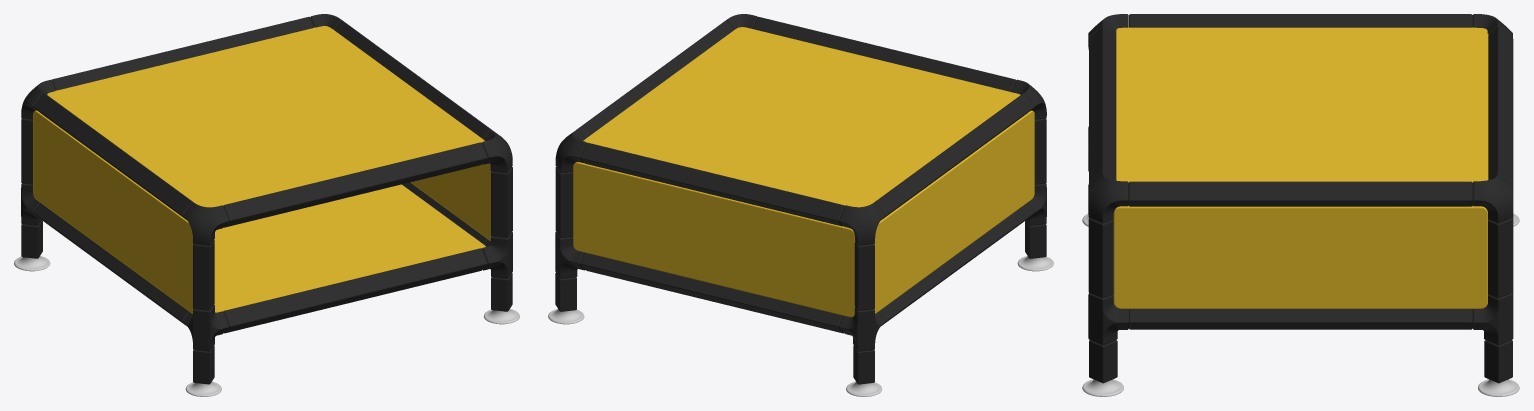
3 views of the same model, side by side, from view 1: azimuth 30°, elevation 25°; view 2: azimuth 150°, elevation 25°; view 3: azimuth 270°, elevation 25° (orthographic). The views are drawn at different scales.
Parts seen in each view (by area): view 1: 329x329x79; view 2: 329x329x79; view 3: 329x329x79.
Boxes of the visible parts, x1,y1,x2,y2 form: 329x329x79: [14, 14, 519, 396]; 329x329x79: [548, 14, 1053, 396]; 329x329x79: [1082, 14, 1519, 396].
Bounding box in the file's own units: 0.4189 × 0.2183 × 0.4182.
